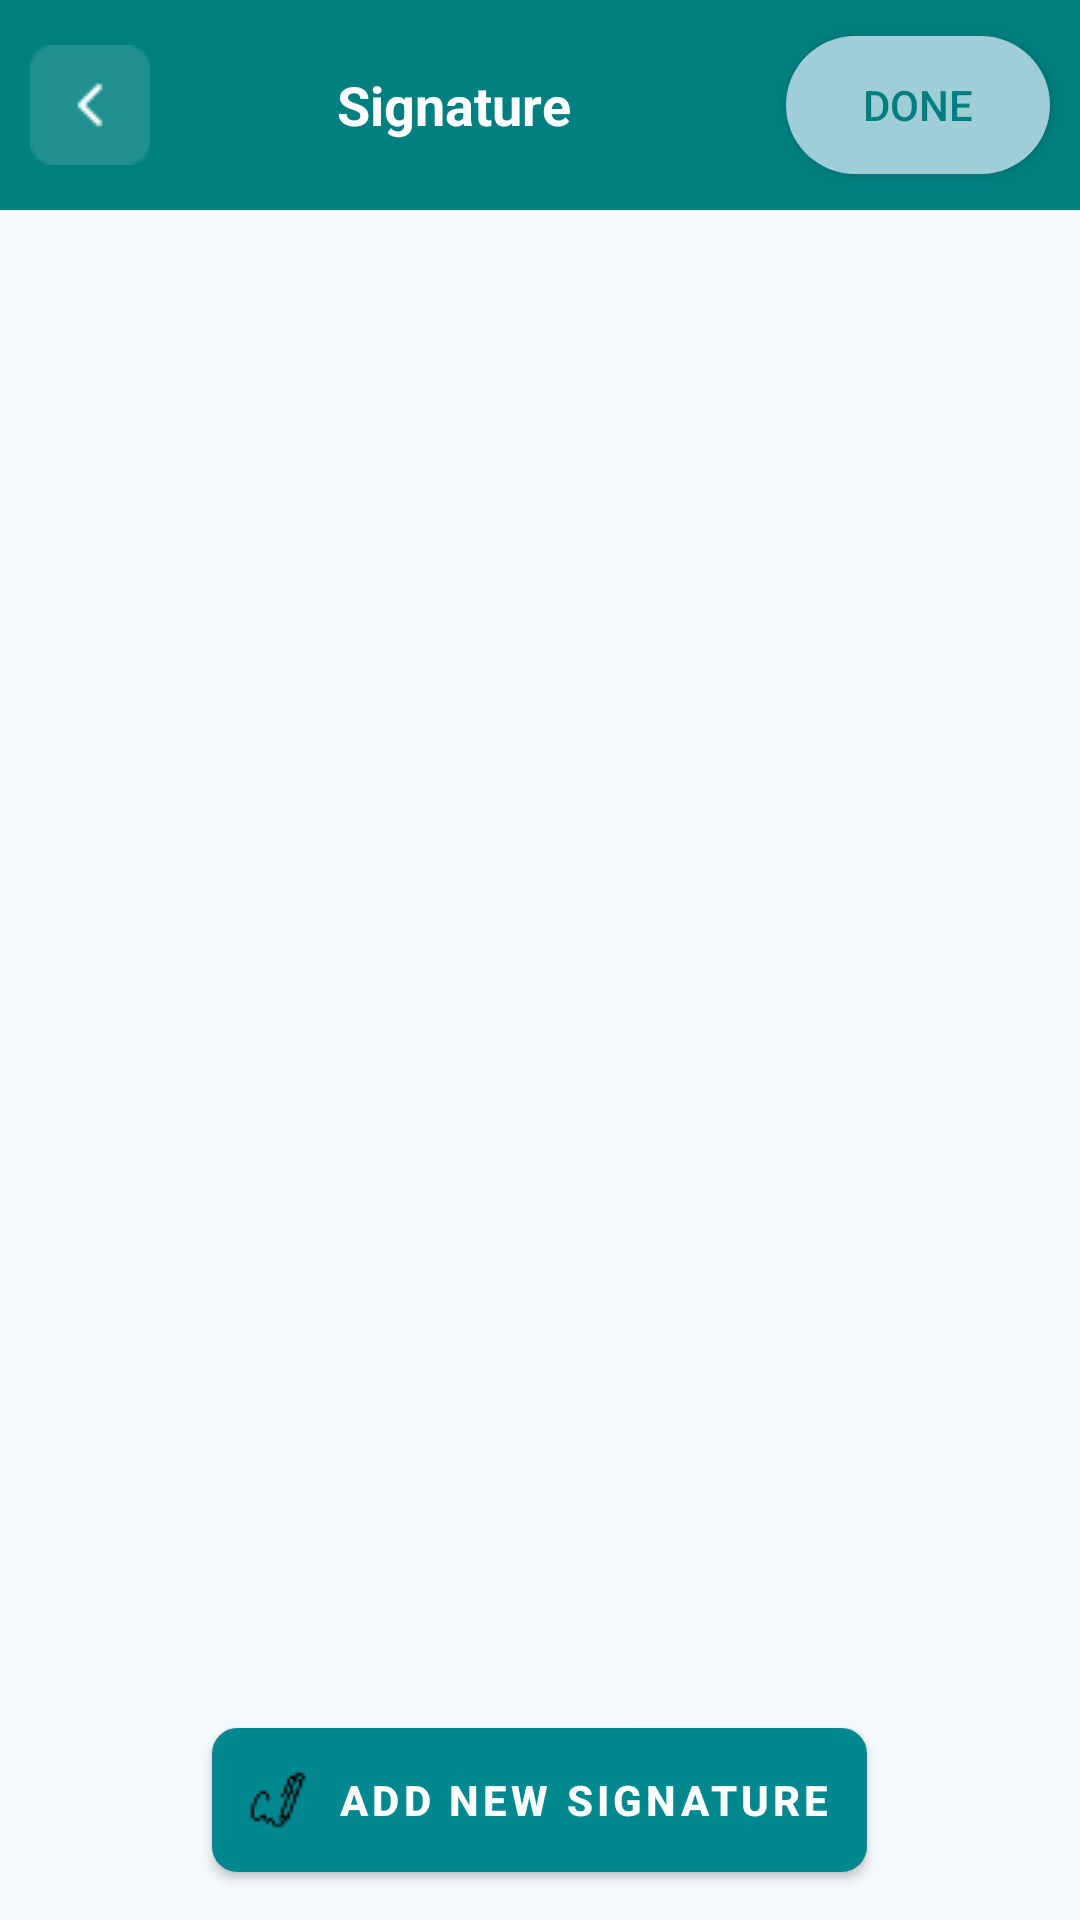

Icons on this 1080*1920 Android screen, each with its box as (x1, y1, x2, y2):
backarrow: (30, 45, 150, 165)
